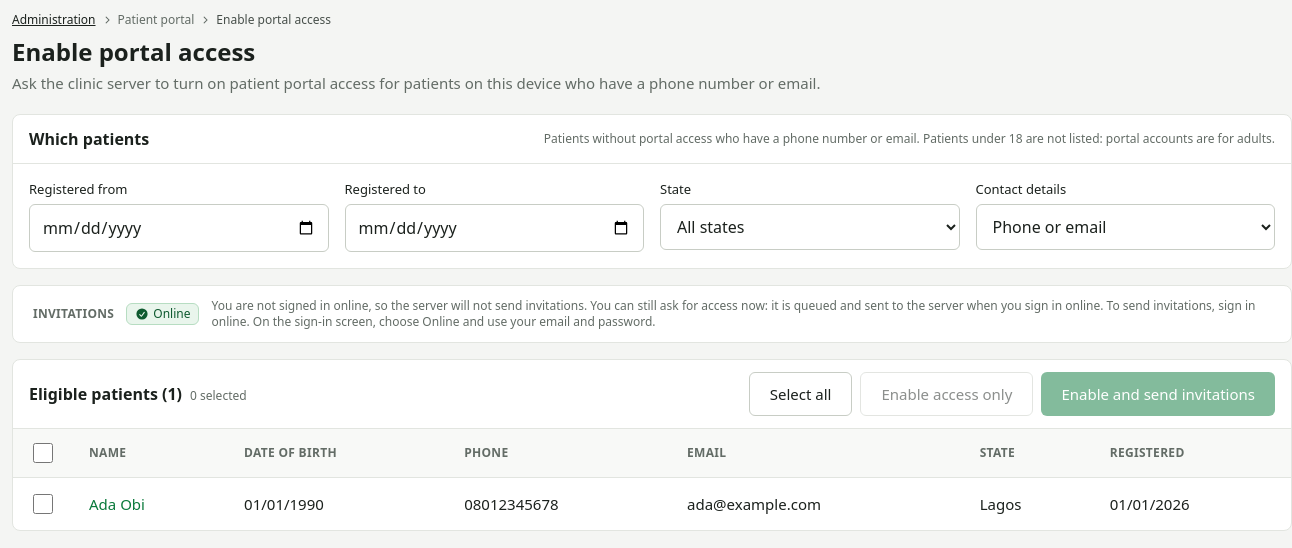
Test: PortalMigration invitations › turns invitations off after a PIN unlock and says why
The width and height of the screenshot is (1292, 548).
Click the checkbox named "Select Ada Obi": x=43, y=504 x1=33 y1=494 x2=53 y2=514
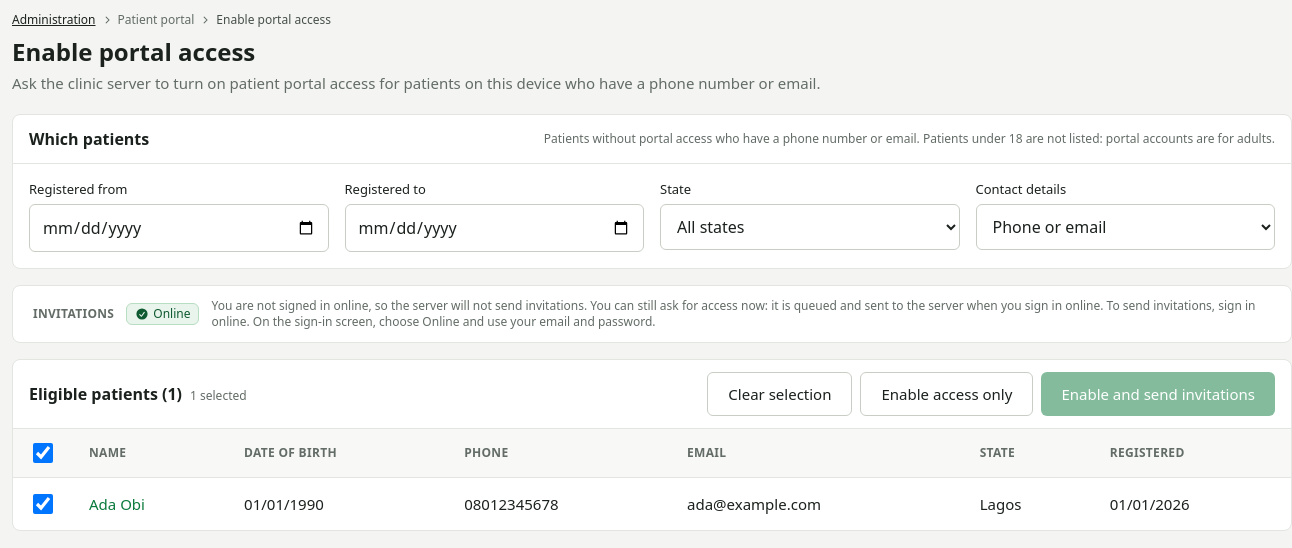
Expected: the button "Enable and send invitations" is disabled, x1=1041 y1=372 x2=1275 y2=416
Expected: the button "Enable access only" is enabled, x1=860 y1=372 x2=1033 y2=416
